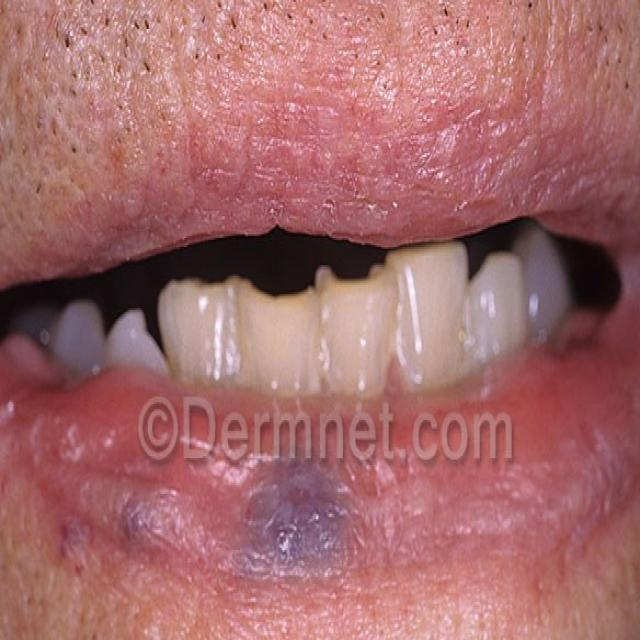Vascular Tumors: (229, 461, 366, 640), (95, 480, 210, 584)
